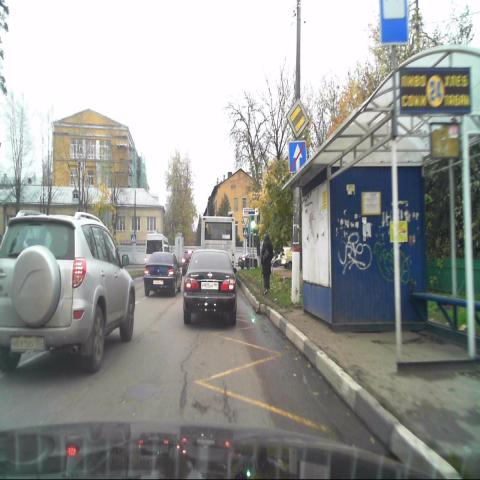2_2: (287, 97, 310, 137)
5_6: (289, 143, 306, 172)
